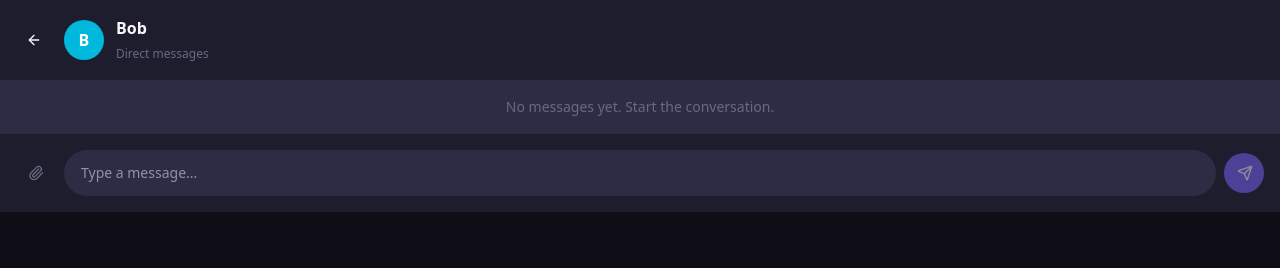
Test case: Chat pages integration › sends a message and renders it in the thread
The width and height of the screenshot is (1280, 268).
Expected: the heading "Bob" is shown, [116,17,147,39]
Type "Hello Bob" into the field with placeholder "Type a message...".
click(640, 173); type("Hello Bob")  # box [64,150,1216,196]
Then press Enter
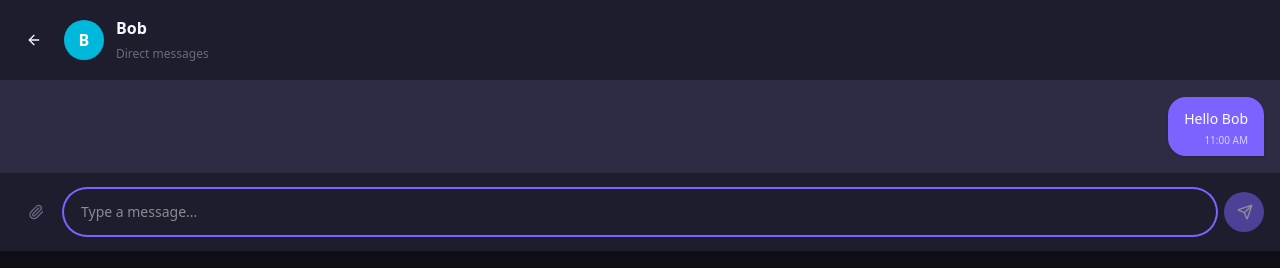
Result: the text "Hello Bob" is shown at [1184,109,1248,129]
